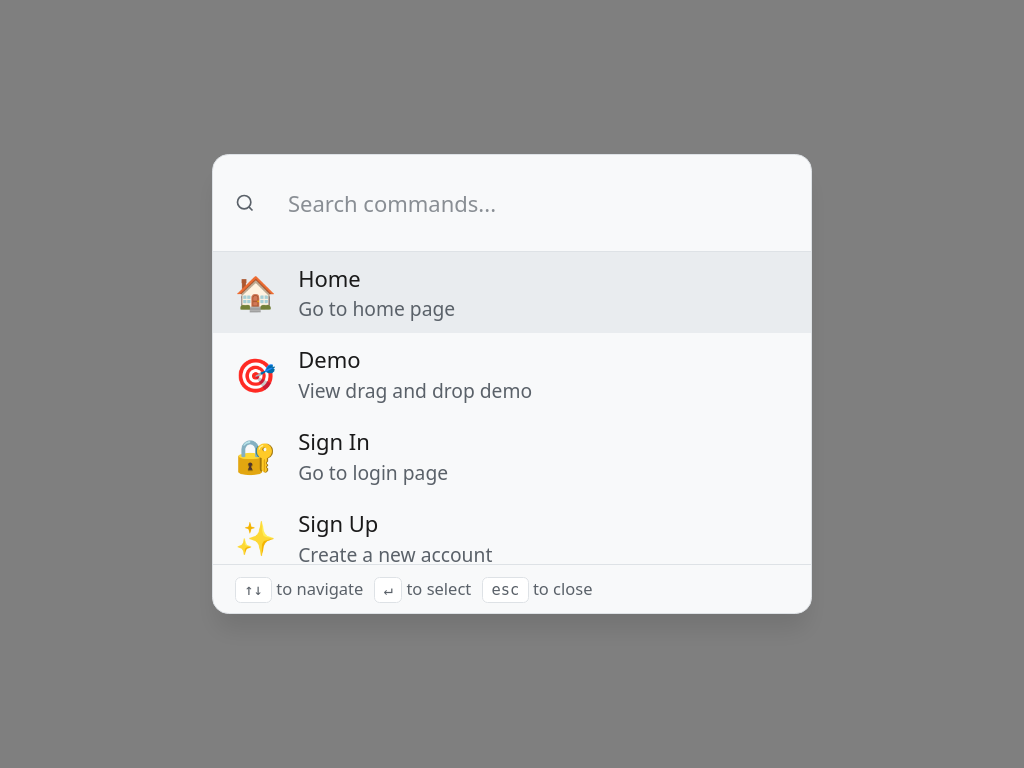
Test: CommandPalette › should not show AI chat fallback when AI is disabled
In the field with class "search-input": (528, 203) [266, 177, 789, 229], type "write a poem"
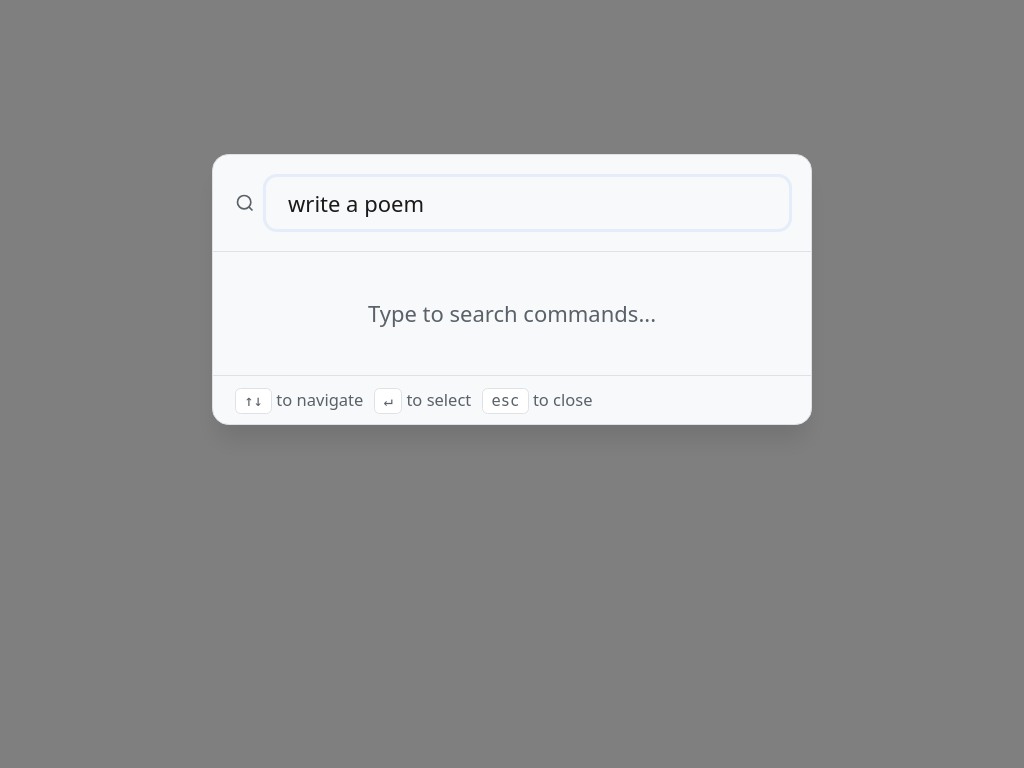
Now the text with class "no-results" reads "Type to search commands...", box [368, 298, 656, 328]
